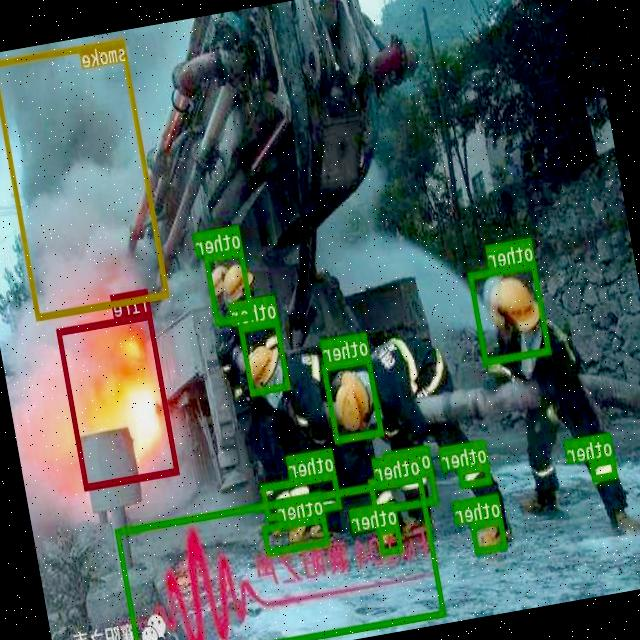fire: (57, 310, 180, 488)
smoke: (0, 37, 170, 319)
